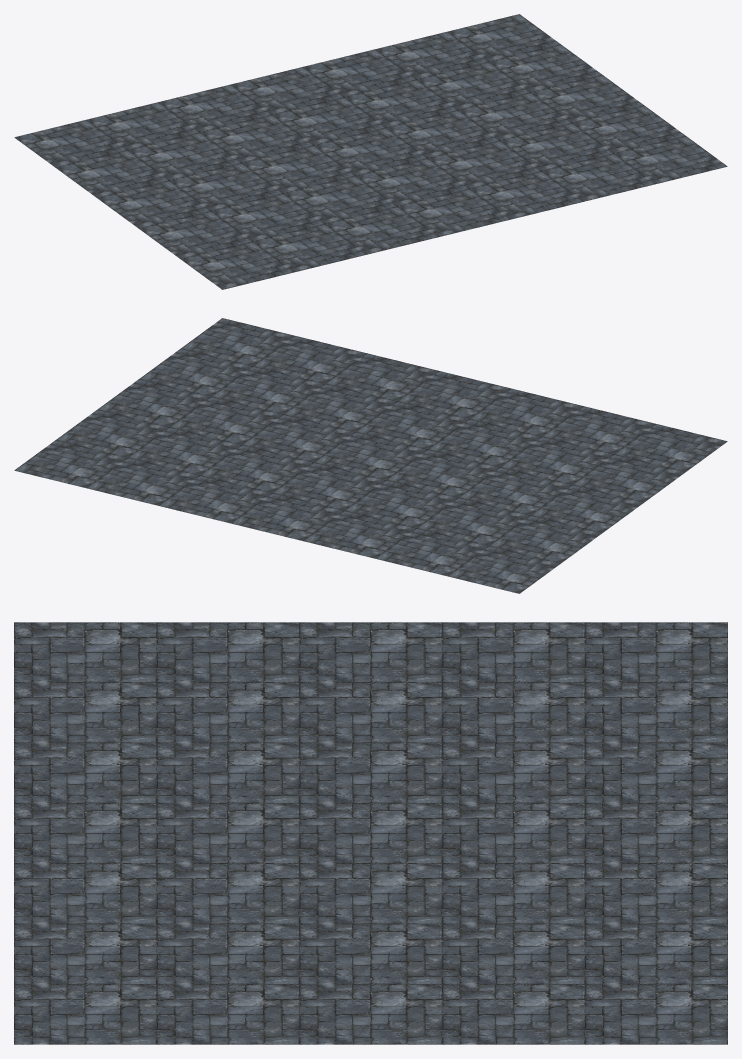
Rendered from gggg.fbx.
3 views of the same model, one above another, from view 1: azimuth 30°, elevation 25°; view 2: azimuth 150°, elevation 25°; view 3: azimuth 270°, elevation 25° (orthographic). The views are drawn at different scales.
Visible parts, largest first — view 1: Plane; view 2: Plane; view 3: Plane.
Boxes of the visible parts, x1,y1,x2,y2 form: Plane: [14, 14, 727, 289]; Plane: [14, 318, 727, 593]; Plane: [14, 622, 727, 1044].
Size of the model in its own units: 1400 by 0.000163 by 1000.
Materials: 1 (1 with a texture image).
